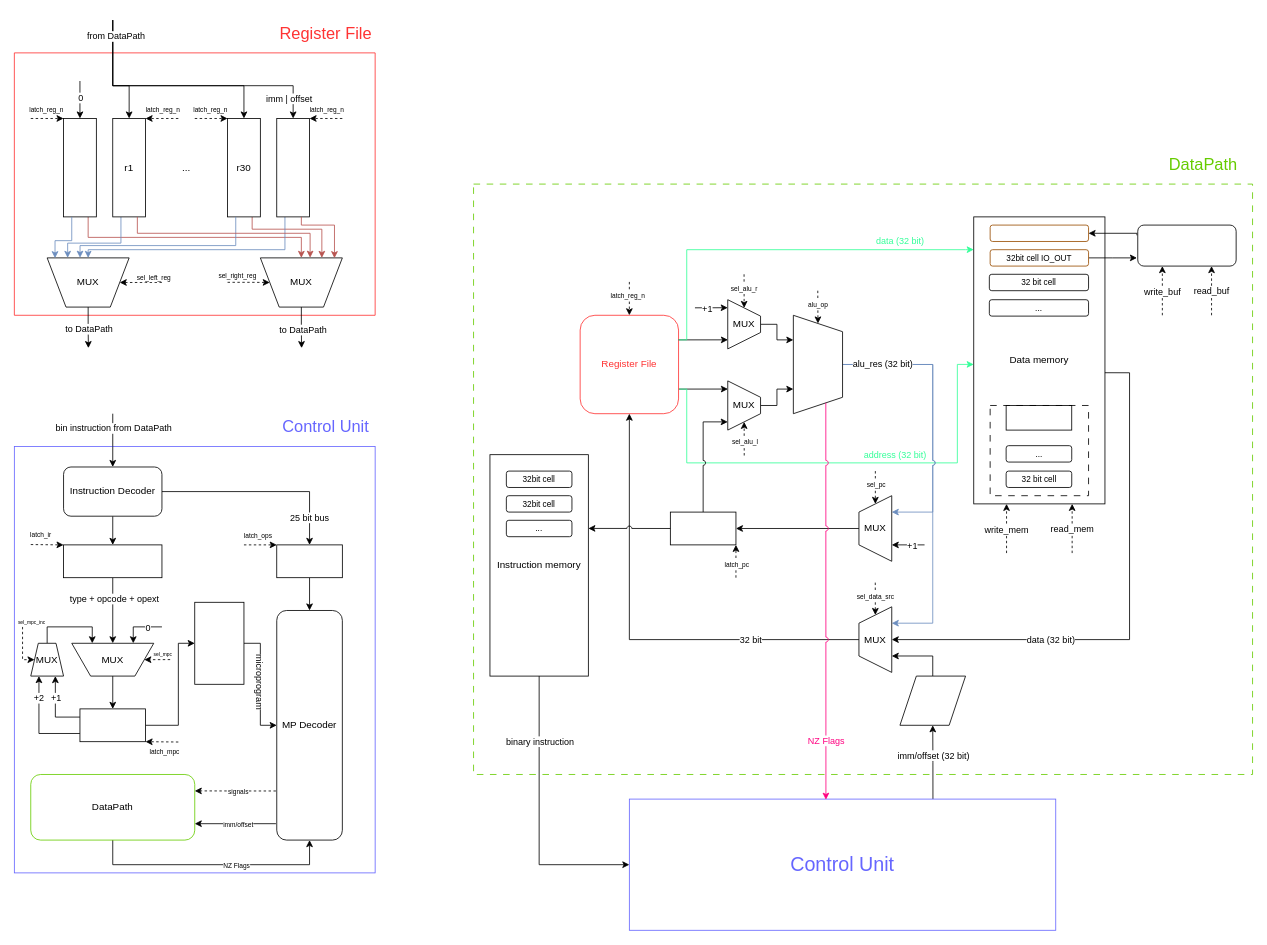
This 1267x945 diagram has some shape labels left out. Each missing label, with the centre of its shape:
32bit cell IO_IN: pixel 1039 232
ALU: pixel 818 364
IO Controller: pixel 1186 245
IR: pixel 112 561
MP memory: pixel 219 642
MPC: pixel 112 725
OR: pixel 309 561
PC: pixel 703 528
r0: pixel 79 167
r31: pixel 293 167
sign extender: pixel 932 700
Stack: pixel 1038 417
